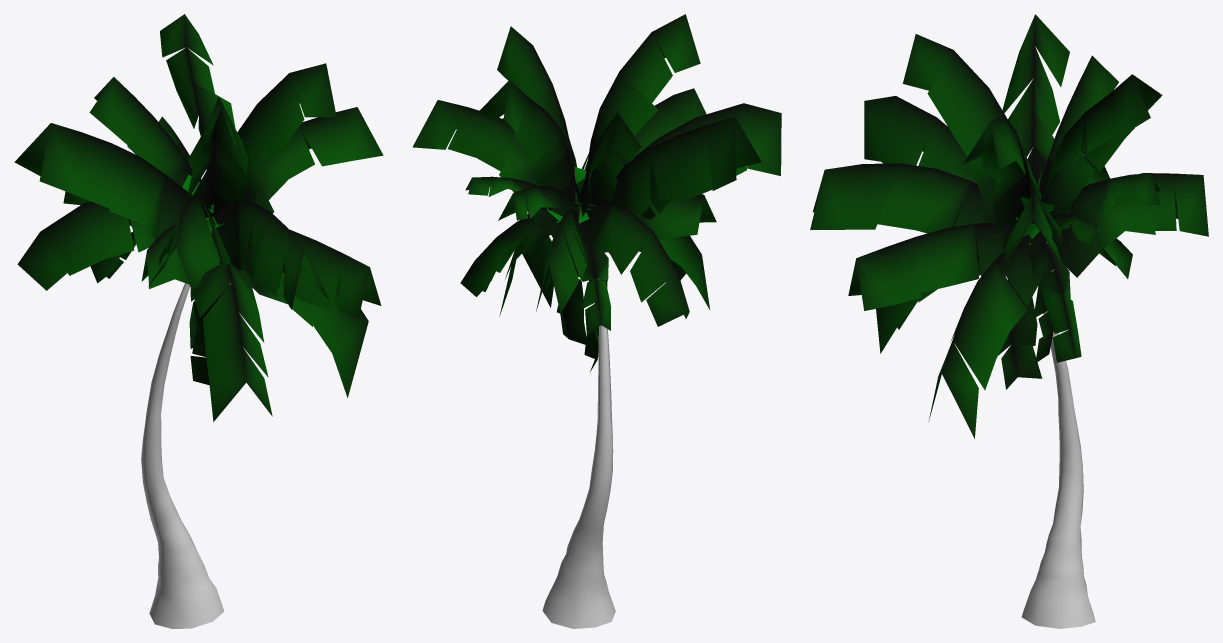
The model's file is CoconutPalmTree02_afsTREE_xlprl05_xef99_xmm_xafs02.fbx.
3 renders of one model, left to right at view 1: azimuth 30°, elevation 25°; view 2: azimuth 150°, elevation 25°; view 3: azimuth 270°, elevation 25°, orthographic. The views are drawn at different scales.
Parts seen in each view (by area): view 1: branch19_xw08_xt08_xp02_xlp04, trunk_xw08_xt00_xlp00, branch01_xw06_xt07_xp07_xlp04, branch17_xw08_xt09_xlp04, branch02_xw08_xt08_xlp05_xp01, branch10_xw10_xt08_xp10_xlp05, branch11_xw08_xt08_xlp04, branch21_xw08_xt08_xp06_xlp05, branch17_xw12_xt10_xlp06_xp06, branch02_xw08_xt08_xlp04, branch12_xw11_xt09_xp03_xlp06, branch03_xw06_xt07_xlp04 (+4 smaller); view 2: trunk_xw08_xt00_xlp00, branch19_xw08_xt08_xp02_xlp04, branch17_xw12_xt10_xlp06_xp06, branch17_xw08_xt09_xlp04, branch11_xw08_xt08_xlp04, branch12_xw11_xt09_xp03_xlp06, branch20_xw09_xt08_xp09_xlp04, branch10_xw10_xt08_xp10_xlp05, branch21_xw08_xt08_xp06_xlp05, branch14_xw08_xt09_xp10_xlp06, branch04_xw05_xt07_xlp05_xp02, branch07_xw04_xt08_xlp06_xp05 (+7 smaller); view 3: branch02_xw08_xt08_xlp05_xp01, trunk_xw08_xt00_xlp00, branch02_xw08_xt08_xlp04, branch03_xw06_xt07_xlp04, branch12_xw11_xt09_xp03_xlp06, branch17_xw12_xt10_xlp06_xp06, branch14_xw08_xt09_xp10_xlp06, branch19_xw08_xt08_xp02_xlp04, branch20_xw09_xt08_xp09_xlp04, branch10_xw10_xt08_xp10_xlp05, branch04_xw05_xt07_xlp05_xp02, branch15_xw08_xt09_xlp06_xp09 (+7 smaller).
Boxes of the visible parts, <box> form: branch19_xw08_xt08_xp02_xlp04: <box>14,123,192,240</box>; trunk_xw08_xt00_xlp00: <box>141,283,224,628</box>; branch01_xw06_xt07_xp07_xlp04: <box>192,250,272,421</box>; branch17_xw08_xt09_xlp04: <box>17,201,154,290</box>; branch02_xw08_xt08_xlp05_xp01: <box>211,200,330,309</box>; branch10_xw10_xt08_xp10_xlp05: <box>237,63,336,202</box>; branch11_xw08_xt08_xlp04: <box>254,107,383,213</box>; branch21_xw08_xt08_xp06_xlp05: <box>89,77,192,186</box>; branch17_xw12_xt10_xlp06_xp06: <box>186,97,250,211</box>; branch02_xw08_xt08_xlp04: <box>244,229,381,319</box>; branch12_xw11_xt09_xp03_xlp06: <box>160,14,235,169</box>; branch03_xw06_xt07_xlp04: <box>250,272,368,397</box>; trunk_xw08_xt00_xlp00: <box>542,279,615,628</box>; branch19_xw08_xt08_xp02_xlp04: <box>580,116,761,219</box>; branch17_xw12_xt10_xlp06_xp06: <box>585,14,700,177</box>; branch17_xw08_xt09_xlp04: <box>584,202,689,326</box>; branch11_xw08_xt08_xlp04: <box>413,100,555,225</box>; branch12_xw11_xt09_xp03_xlp06: <box>477,80,580,210</box>; branch20_xw09_xt08_xp09_xlp04: <box>634,103,781,175</box>; branch10_xw10_xt08_xp10_xlp05: <box>497,26,577,182</box>; branch21_xw08_xt08_xp06_xlp05: <box>580,112,641,216</box>; branch14_xw08_xt09_xp10_xlp06: <box>536,208,590,313</box>; branch04_xw05_xt07_xlp05_xp02: <box>460,215,559,296</box>; branch07_xw04_xt08_xlp06_xp05: <box>572,221,610,335</box>; branch02_xw08_xt08_xlp05_xp01: <box>810,163,994,253</box>; trunk_xw08_xt00_xlp00: <box>1021,311,1095,628</box>; branch02_xw08_xt08_xlp04: <box>848,222,1012,310</box>; branch03_xw06_xt07_xlp04: <box>928,237,1042,438</box>; branch12_xw11_xt09_xp03_xlp06: <box>1040,74,1162,234</box>; branch17_xw12_xt10_xlp06_xp06: <box>902,34,1008,222</box>; branch14_xw08_xt09_xp10_xlp06: <box>1058,173,1208,277</box>; branch19_xw08_xt08_xp02_xlp04: <box>1002,14,1069,184</box>; branch20_xw09_xt08_xp09_xlp04: <box>864,96,976,183</box>; branch10_xw10_xt08_xp10_xlp05: <box>963,115,1041,232</box>; branch04_xw05_xt07_xlp05_xp02: <box>1027,234,1081,362</box>; branch15_xw08_xt09_xlp06_xp09: <box>1041,173,1160,242</box>.
Size of what is drawn, in the model's own units: 12.05 by 12.44 by 19.55.
